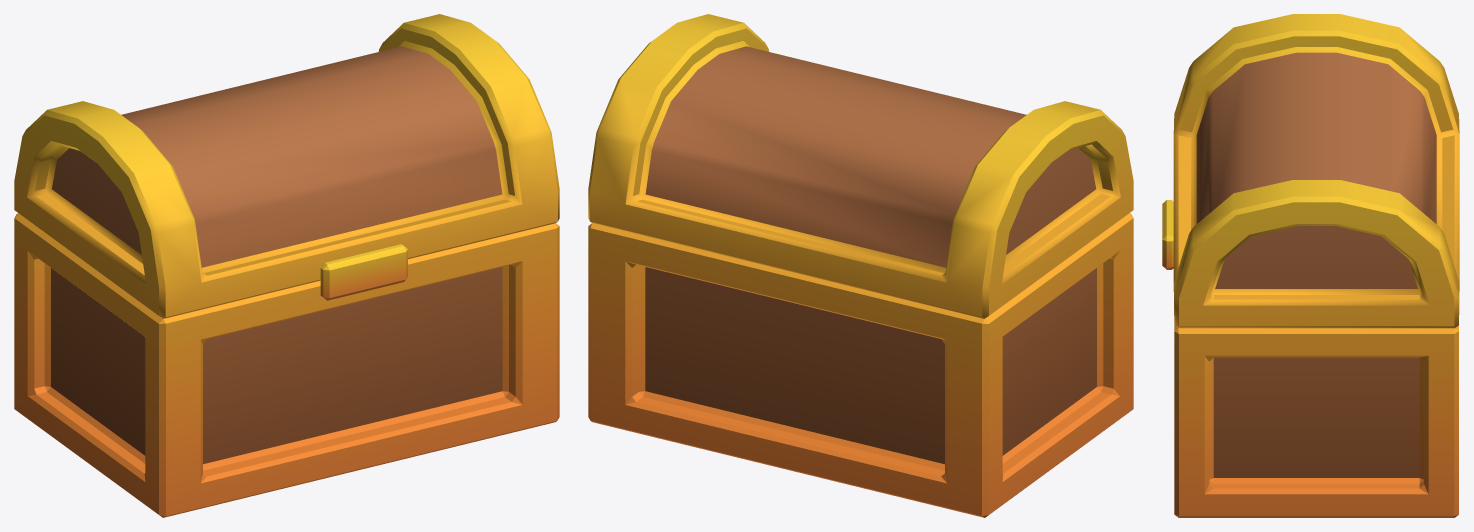
The picture shows the model from 3 angles, left to right: view 1: azimuth 30°, elevation 25°; view 2: azimuth 150°, elevation 25°; view 3: azimuth 270°, elevation 25°; orthographic projection. The views are drawn at different scales.
Visible parts, largest first — view 1: Box_02, Box_02.1; view 2: Box_02, Box_02.1; view 3: Box_02.1, Box_02.
Boxes of the visible parts, x1,y1,x2,y2 form: Box_02: (14, 213, 559, 517); Box_02.1: (14, 14, 559, 318); Box_02: (588, 213, 1133, 517); Box_02.1: (588, 14, 1133, 318); Box_02.1: (1162, 14, 1459, 328); Box_02: (1174, 325, 1458, 517).
Bounding box in the file's own units: 60 × 48.26 × 40.45.
